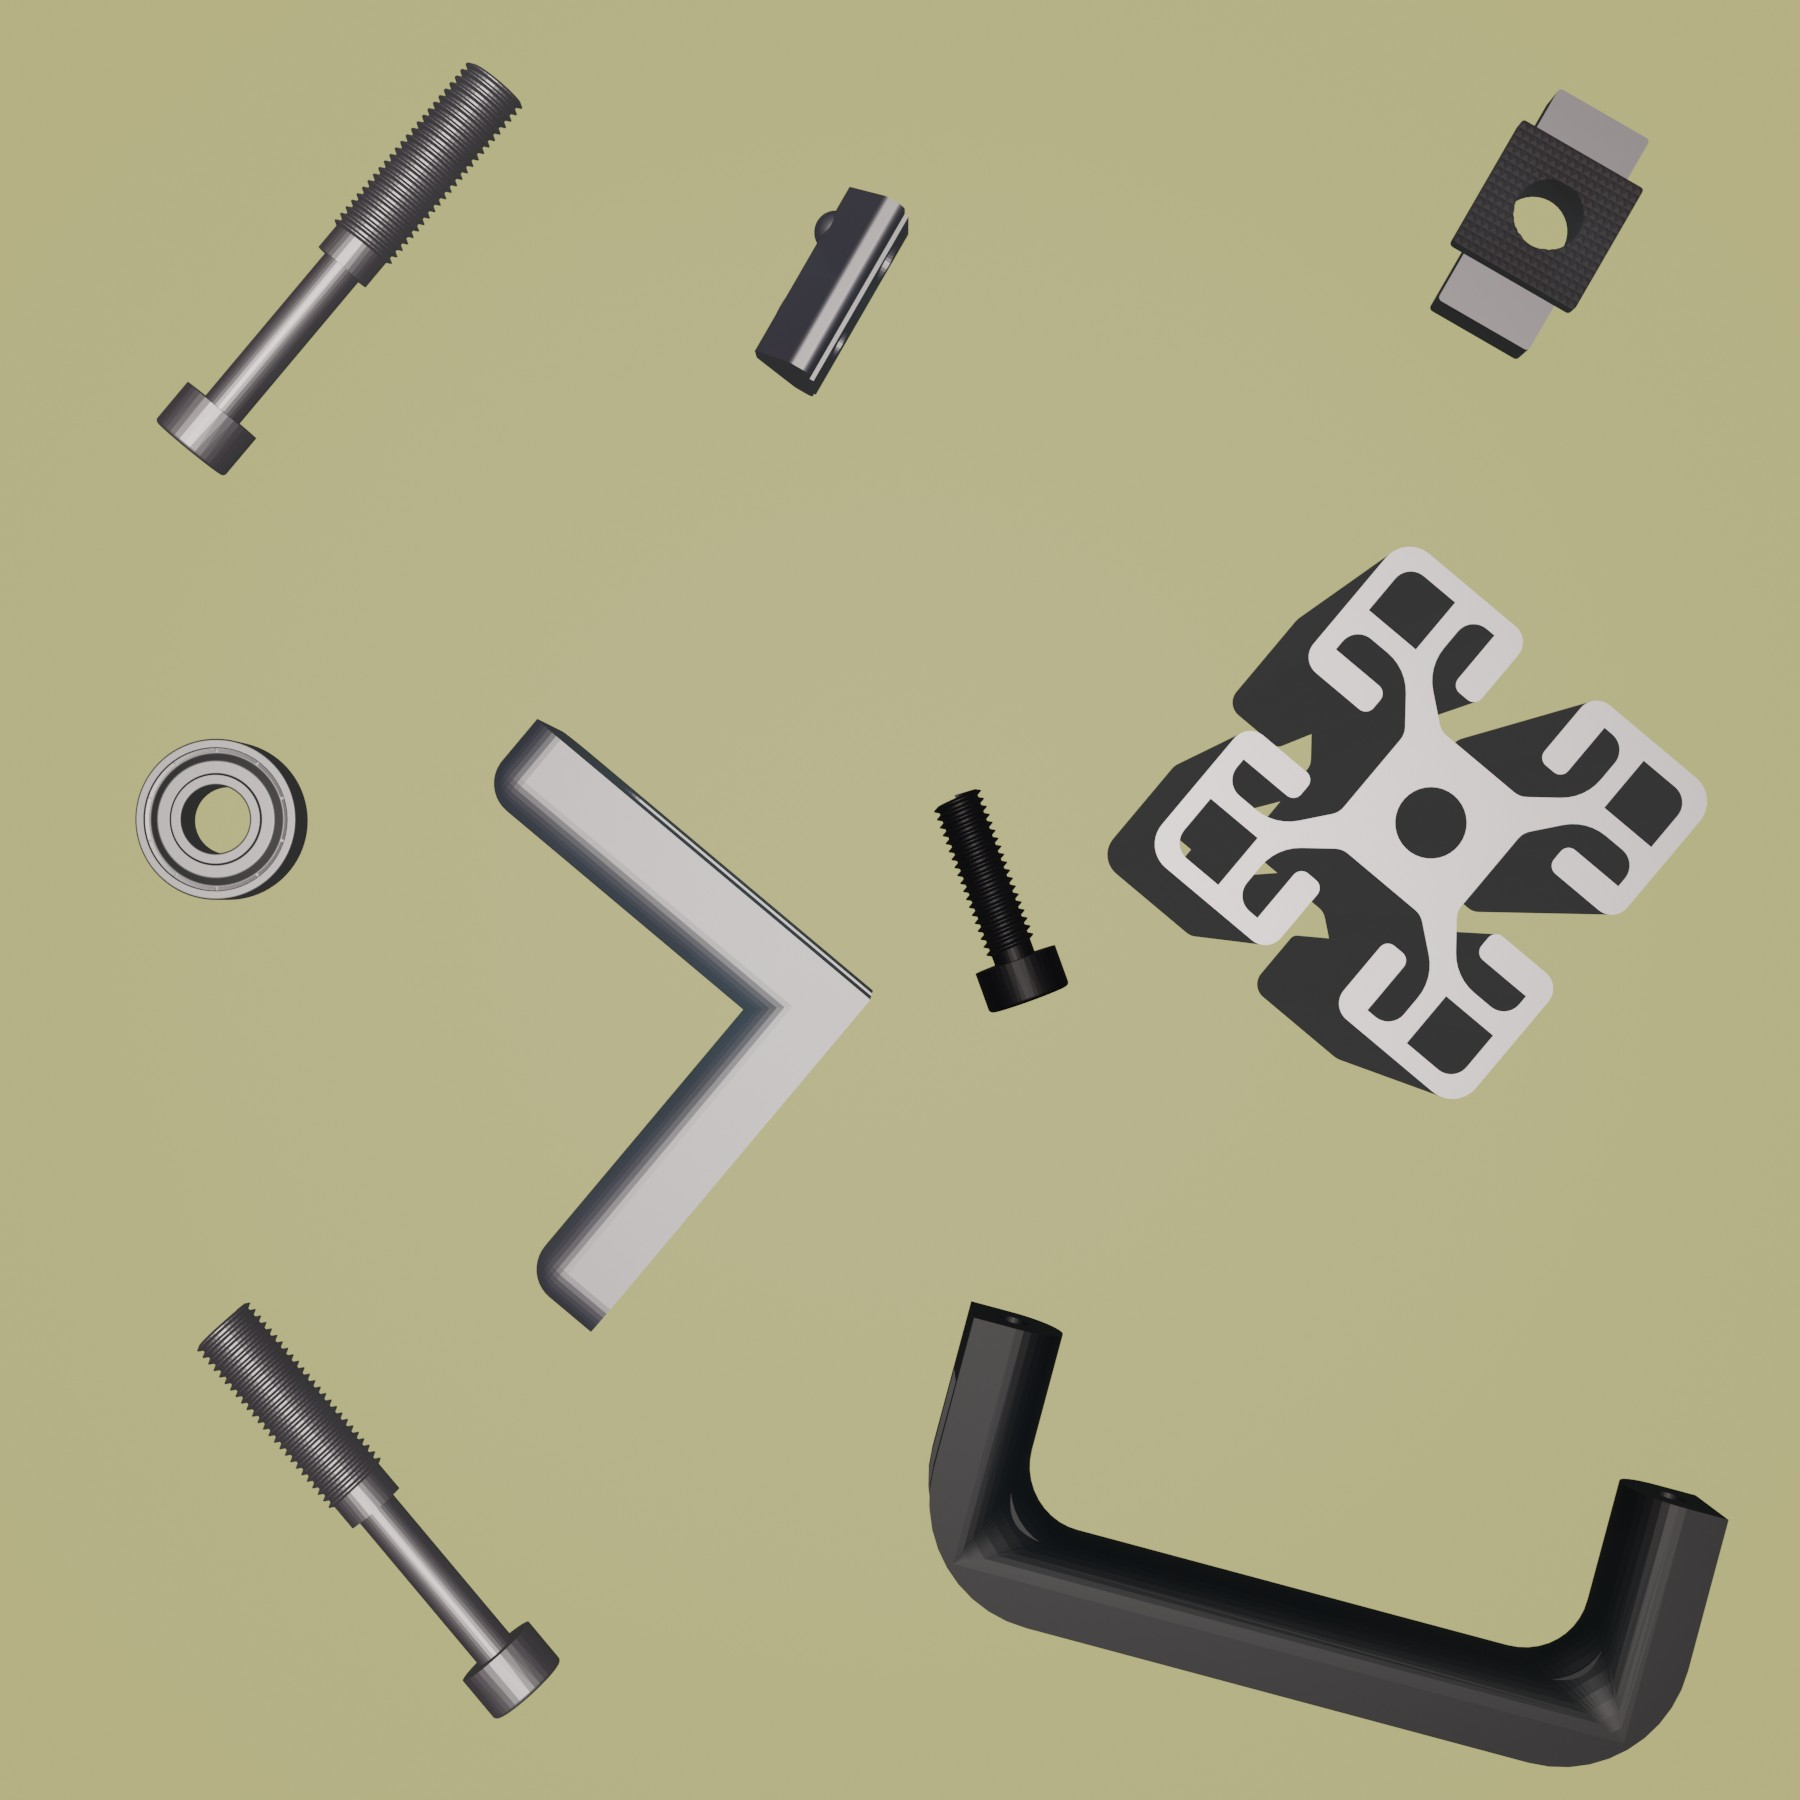Aluminium Extension: (1104, 542, 1711, 1104)
Ball Bearing: (132, 735, 308, 903)
Multiwinkel: (491, 715, 875, 1335)
Pull Handle: (925, 1299, 1731, 1772)
Shoulder Socket Head Cap Screw: (153, 58, 524, 478), (195, 1296, 560, 1719)
Socket Head Cap Screw: (931, 785, 1070, 1015)
T Nut Square: (1427, 86, 1653, 363)
T Spring Nut: (755, 181, 913, 401)
